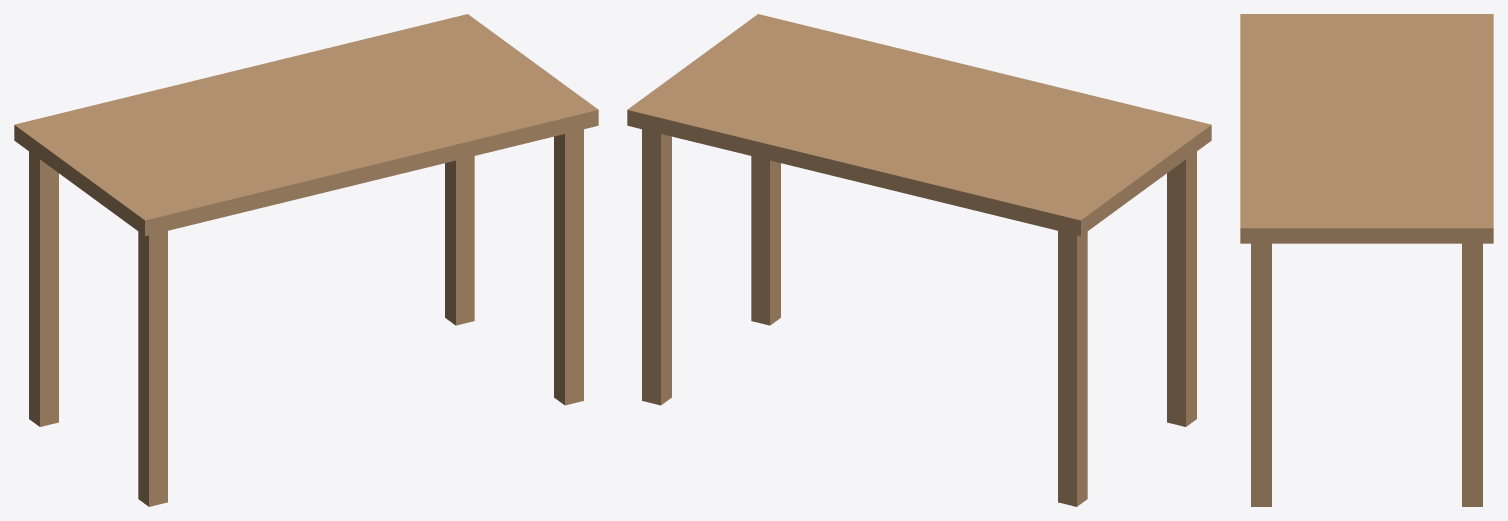
File: test-table.glb
3 renders of one model, left to right at view 1: azimuth 30°, elevation 25°; view 2: azimuth 150°, elevation 25°; view 3: azimuth 270°, elevation 25°, orthographic. The views are drawn at different scales.
Visible parts, largest first — view 1: top, leg-fl, leg-fr, leg-bl, leg-br; view 2: top, leg-bl, leg-br, leg-fl, leg-fr; view 3: top, leg-fr, leg-br.
Boxes of the visible parts, bbox=[...] form: top: bbox=[14, 14, 598, 236]; leg-fl: bbox=[138, 231, 167, 506]; leg-fr: bbox=[554, 129, 583, 405]; leg-bl: bbox=[29, 151, 58, 426]; leg-br: bbox=[445, 156, 474, 325]; top: bbox=[627, 14, 1211, 236]; leg-bl: bbox=[1058, 231, 1087, 506]; leg-br: bbox=[642, 129, 671, 405]; leg-fl: bbox=[1167, 151, 1196, 426]; leg-fr: bbox=[751, 156, 780, 325]; top: bbox=[1240, 14, 1493, 243]; leg-fr: bbox=[1251, 243, 1271, 506]; leg-br: bbox=[1462, 243, 1482, 506].
Size of the model in its own units: 1.2 by 0.74 by 0.6.
